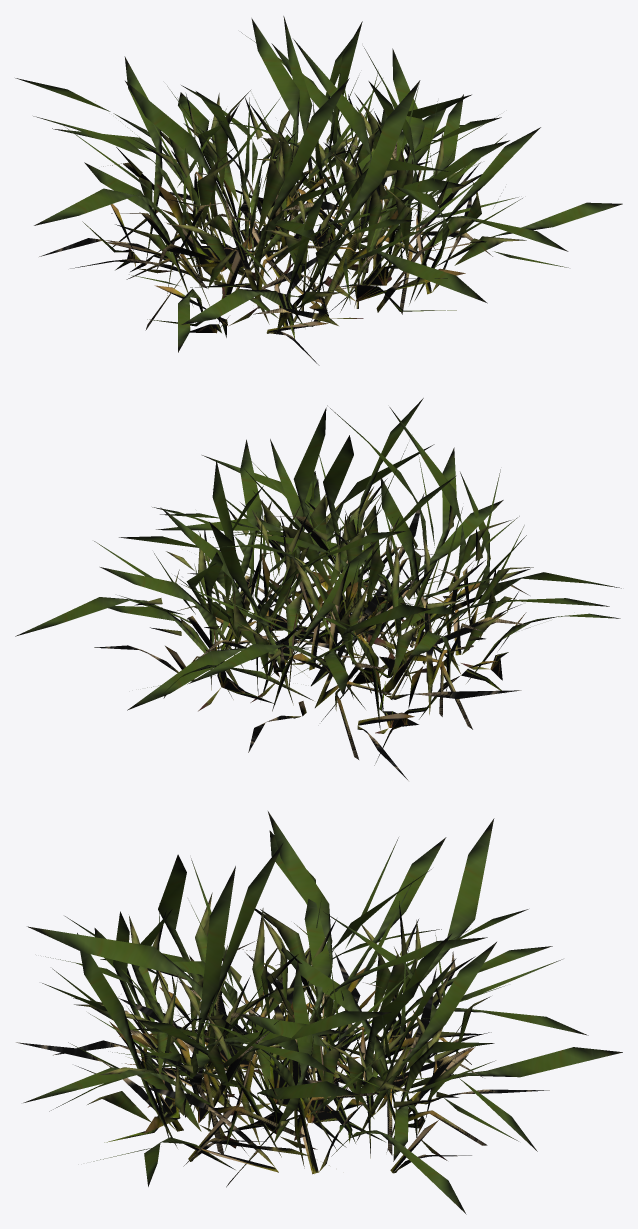
The model's file is grass_medium_01_v3.glb.
3 views of the same model, one above another, from view 1: azimuth 30°, elevation 25°; view 2: azimuth 150°, elevation 25°; view 3: azimuth 270°, elevation 25° (orthographic). The views are drawn at different scales.
Visible parts, largest first — view 1: lod0; view 2: lod0; view 3: lod0.
Boxes of the visible parts, bbox=[...] form: lod0: bbox=[15, 16, 622, 365]; lod0: bbox=[15, 398, 621, 780]; lod0: bbox=[16, 811, 622, 1214].
Size of what is drawn, in the model's own units: 0.2788 by 0.1414 by 0.253.
Materials: 1 (1 with a texture image).
